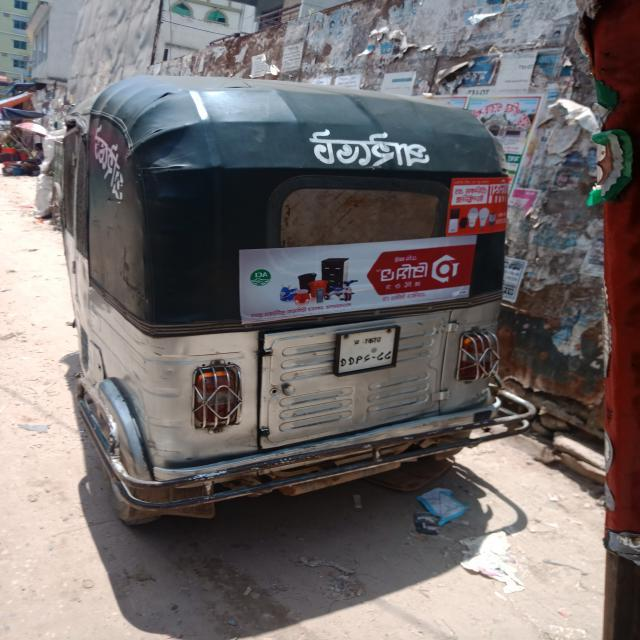CNG: (31, 40, 541, 540)
